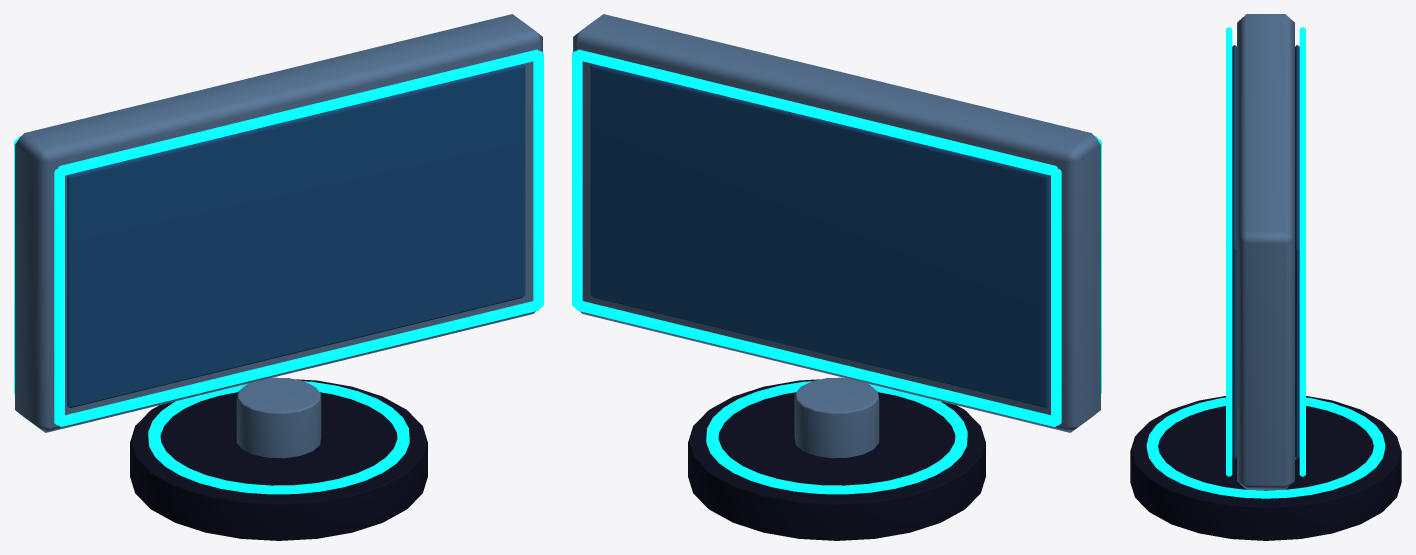
Rendered from NT_Reflector_Rotating.fbx.
The picture shows the model from 3 angles, left to right: view 1: azimuth 30°, elevation 25°; view 2: azimuth 150°, elevation 25°; view 3: azimuth 270°, elevation 25°; orthographic projection. The views are drawn at different scales.
Parts seen in each view (by area): view 1: NT_Reflector_Rotating__ReflectorMesh, NT_Reflector_Rotating__ReflectorBaseMesh; view 2: NT_Reflector_Rotating__ReflectorMesh, NT_Reflector_Rotating__ReflectorBaseMesh; view 3: NT_Reflector_Rotating__ReflectorMesh, NT_Reflector_Rotating__ReflectorBaseMesh.
Boxes of the visible parts, bbox=[...] form: NT_Reflector_Rotating__ReflectorMesh: bbox=[14, 14, 543, 432]; NT_Reflector_Rotating__ReflectorBaseMesh: bbox=[130, 377, 427, 540]; NT_Reflector_Rotating__ReflectorMesh: bbox=[572, 14, 1101, 432]; NT_Reflector_Rotating__ReflectorBaseMesh: bbox=[688, 377, 985, 540]; NT_Reflector_Rotating__ReflectorMesh: bbox=[1226, 14, 1305, 489]; NT_Reflector_Rotating__ReflectorBaseMesh: bbox=[1130, 396, 1401, 540].
Size of the model in its own units: 2.2 by 1.65 by 1.12.
